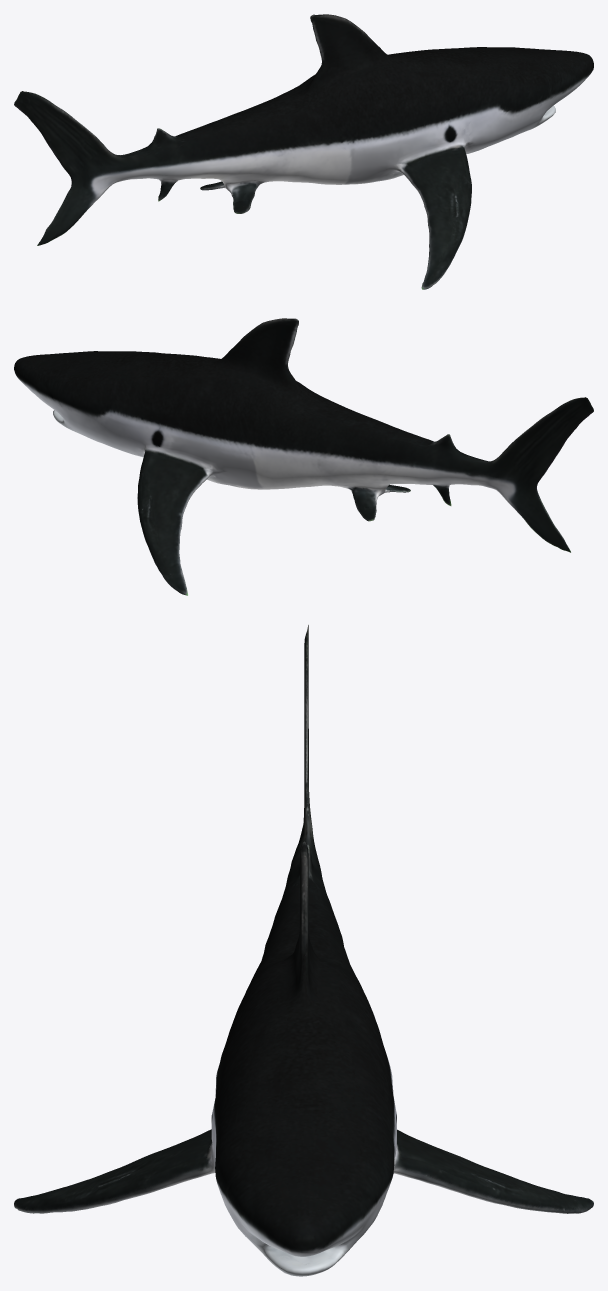
3 renders of one model, top to bottom at view 1: azimuth 30°, elevation 25°; view 2: azimuth 150°, elevation 25°; view 3: azimuth 270°, elevation 25°, orthographic. The views are drawn at different scales.
Parts seen in each view (by area): view 1: Mesh; view 2: Mesh; view 3: Mesh.
Boxes of the visible parts, x1,y1,x2,y2 form: Mesh: (14,14,593,289); Mesh: (14,318,593,595); Mesh: (14,625,593,1276).
Bounding box in the file's own units: 0.949 × 0.3375 × 0.513.
1 material, 1 textured.
